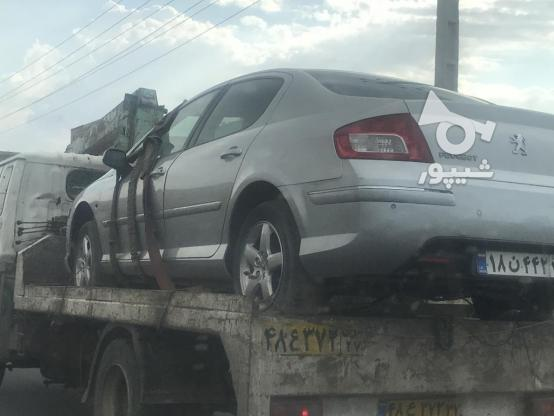car: (466, 245, 554, 280)
